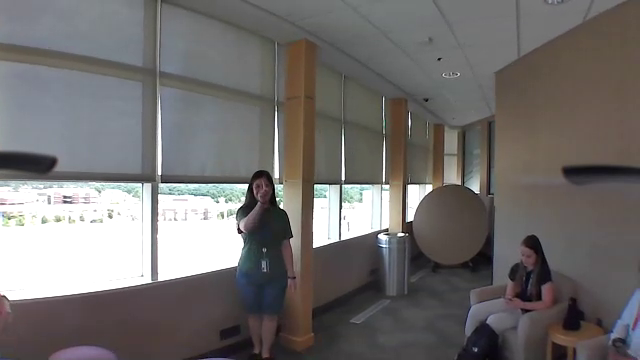up: (254, 180, 276, 207)
